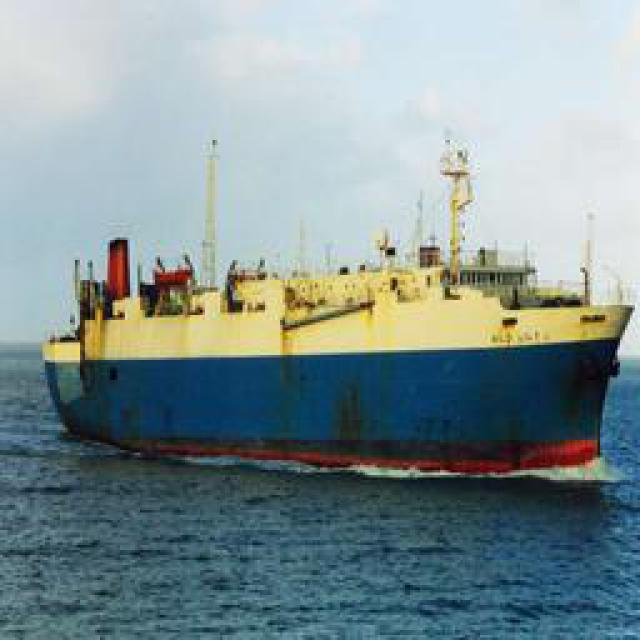Ship: (43, 179, 631, 469)
